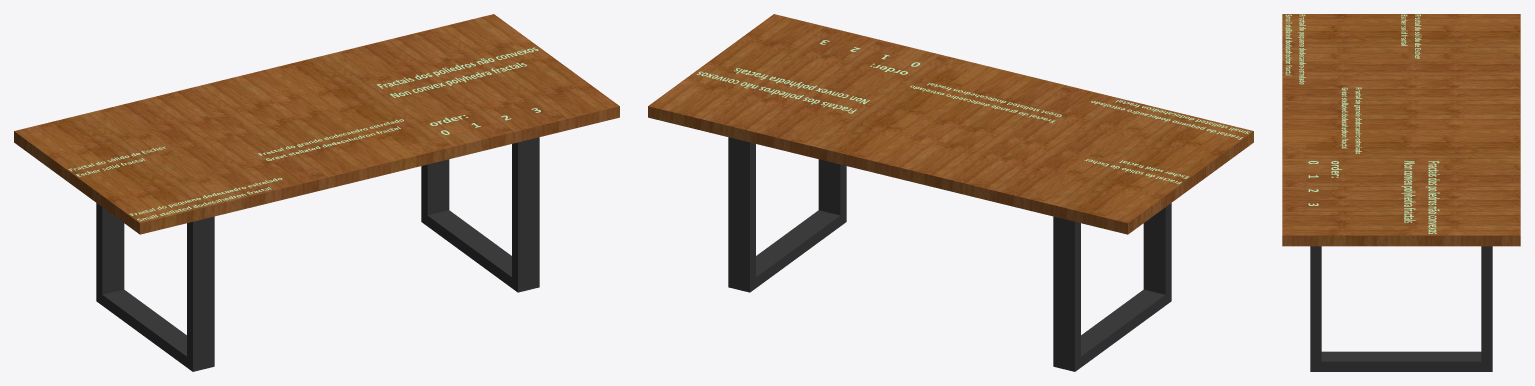
File: fractal_nonconvex1.glb
3 renders of one model, left to right at view 1: azimuth 30°, elevation 25°; view 2: azimuth 150°, elevation 25°; view 3: azimuth 270°, elevation 25°, orthographic. The views are drawn at different scales.
Parts seen in each view (by area): view 1: object 1, Composant#1 (×2), Fractais dos pol#1, Fractal do peque, Fractal do grand; view 2: object 1, Composant#1 (×2), Fractais dos pol#1, Fractal do peque, Fractal do grand; view 3: object 1, Composant#1, Fractais dos pol#1, Fractal do peque, Fractal do grand, Fractal do sólid.
Part boxes in pixels (x1=…): object 1: x1=14, y1=14, x2=619, y2=234; Composant#1 (×2): x1=96, y1=137, x2=539, y2=371; Fractais dos pol#1: x1=377, y1=47, x2=538, y2=97; Fractal do peque: x1=130, y1=178, x2=282, y2=221; Fractal do grand: x1=258, y1=119, x2=403, y2=160; object 1: x1=648, y1=14, x2=1253, y2=234; Composant#1 (×2): x1=728, y1=137, x2=1171, y2=371; Fractais dos pol#1: x1=696, y1=68, x2=869, y2=113; Fractal do peque: x1=1091, y1=100, x2=1249, y2=139; Fractal do grand: x1=910, y1=83, x2=1061, y2=122; object 1: x1=1282, y1=14, x2=1520, y2=246; Composant#1: x1=1310, y1=246, x2=1492, y2=371; Fractais dos pol#1: x1=1401, y1=161, x2=1439, y2=233; Fractal do peque: x1=1285, y1=14, x2=1305, y2=84; Fractal do grand: x1=1341, y1=87, x2=1361, y2=153; Fractal do sólid: x1=1401, y1=14, x2=1421, y2=58.
Size of the model in its own units: 2.2 by 0.7711 by 1.
3 materials, 1 textured.
